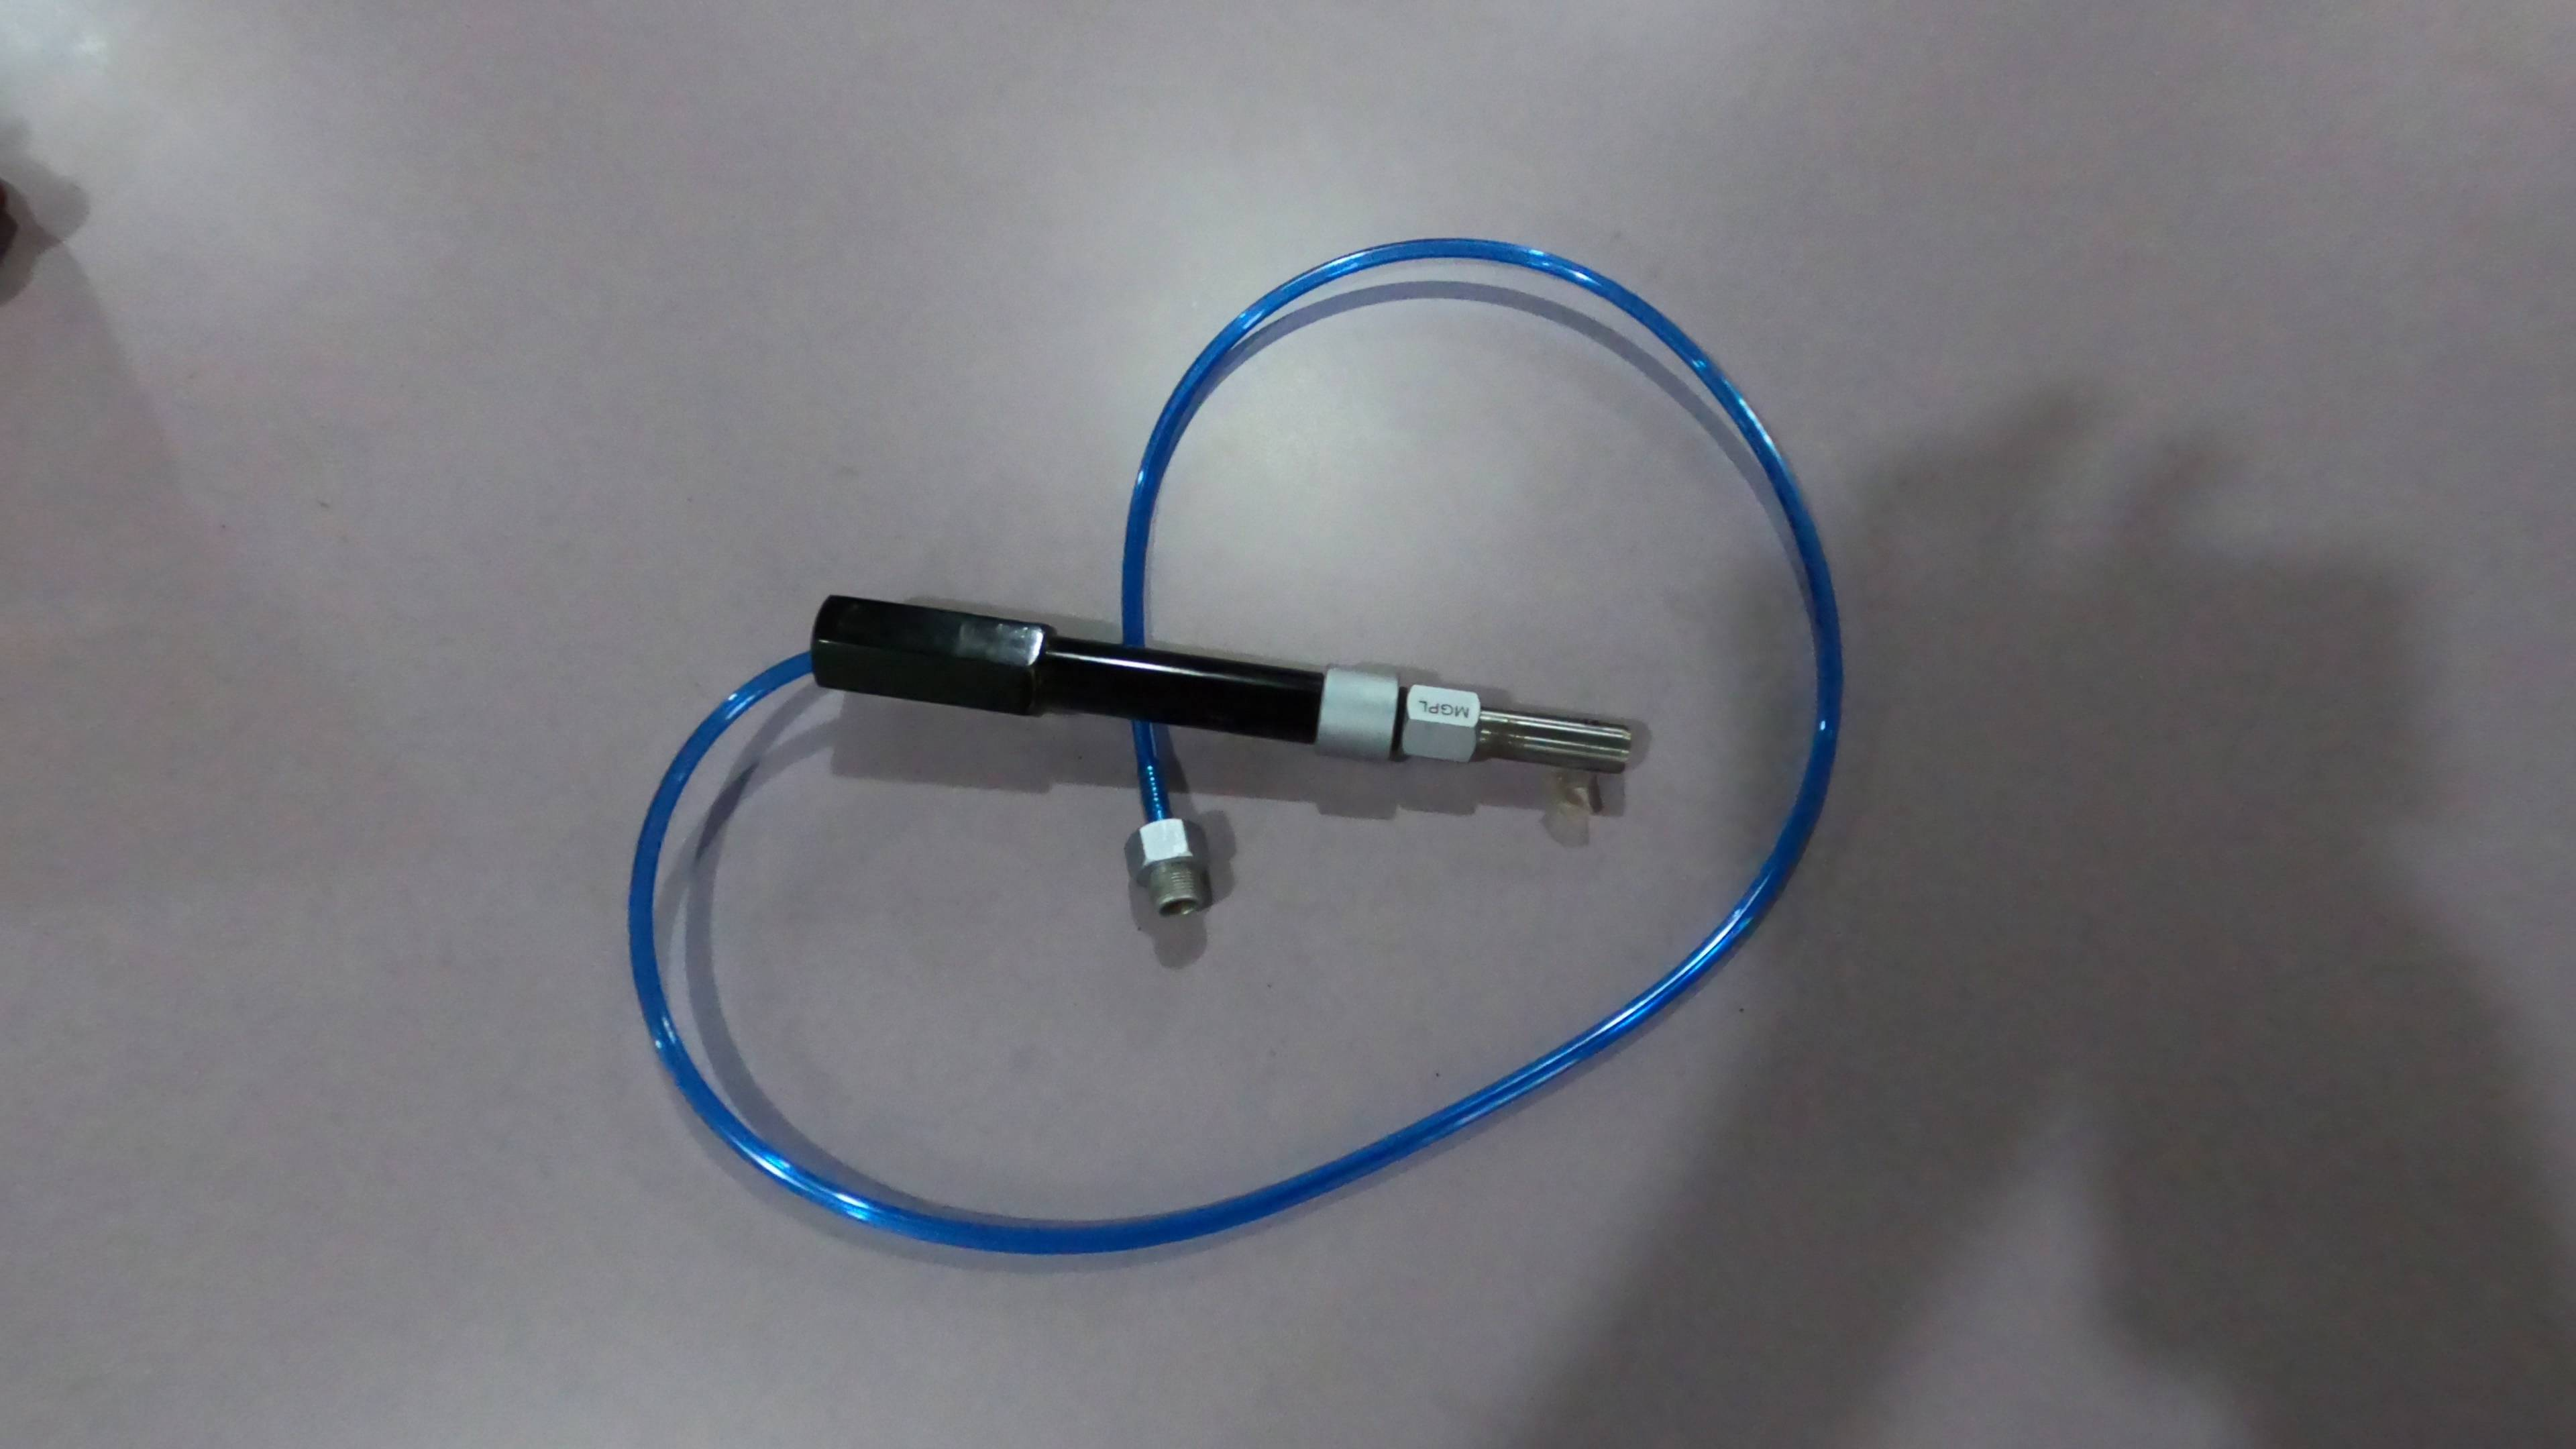air_gauge: (805, 563, 1649, 793)
